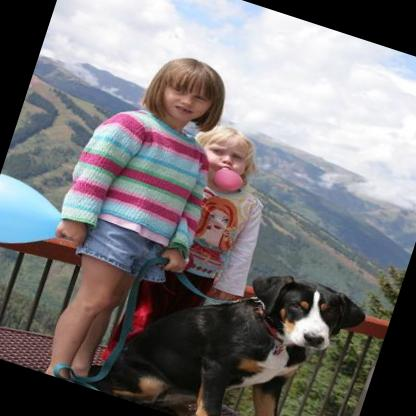Greater_Swiss_Mountain_dog: (92, 226, 368, 416)
